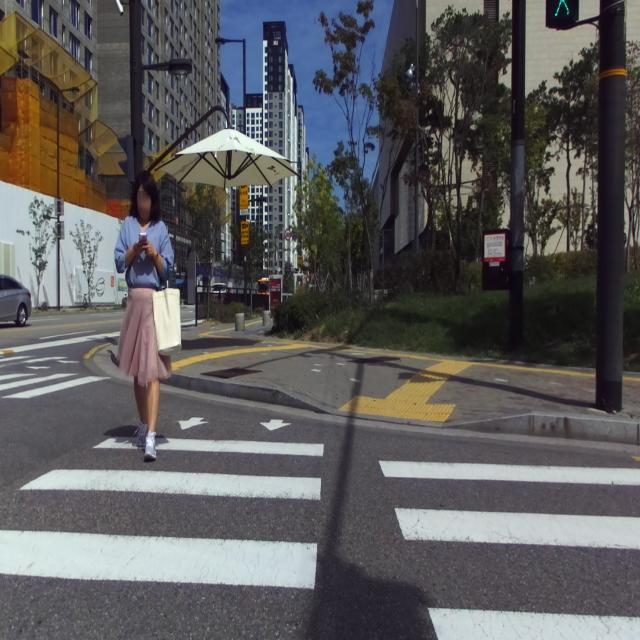횡단보도: (0, 417, 640, 640), (0, 346, 112, 401)
